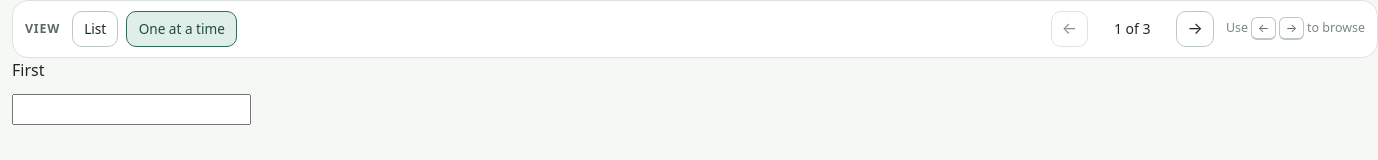
Test: CollectionBrowser › starts with one item and browses with controls or arrow keys
The image size is (1378, 160).
Check: the text "First" is shown, box 12,59 -> 44,81
Check: the message reads "1 of 3", box 1114,19 -> 1151,38
Click the button named "Next thought": click(1195, 29) 1176,11 -> 1214,47
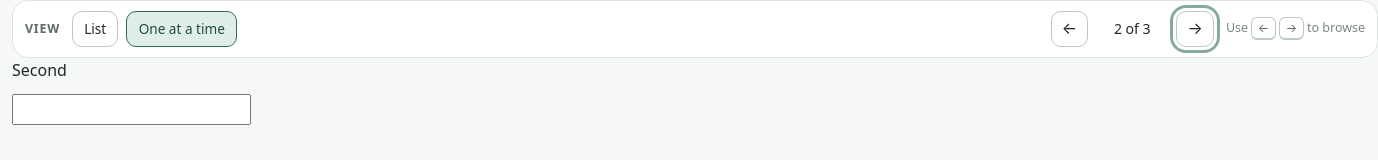
Check: the text "Second" is shown, box 12,59 -> 67,81
Press Arrowright
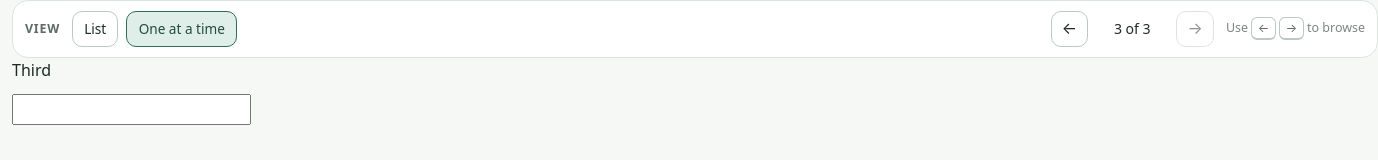
Check: the text "Third" is shown, box 12,59 -> 51,81
Check: the button named "Next thought" is disabled, box 1176,11 -> 1214,47
Click the button "List": click(95, 29) 72,11 -> 118,47
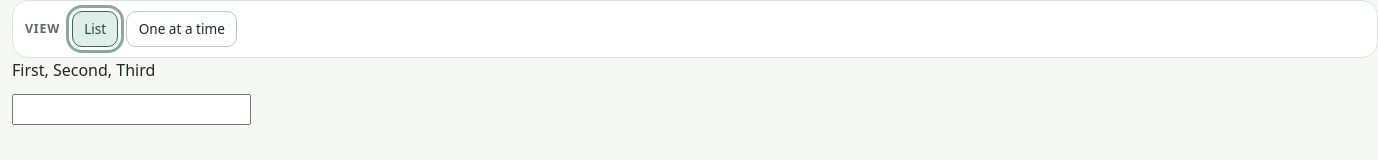
Check: the text "First, Second, Third" is shown, box 12,59 -> 155,81
